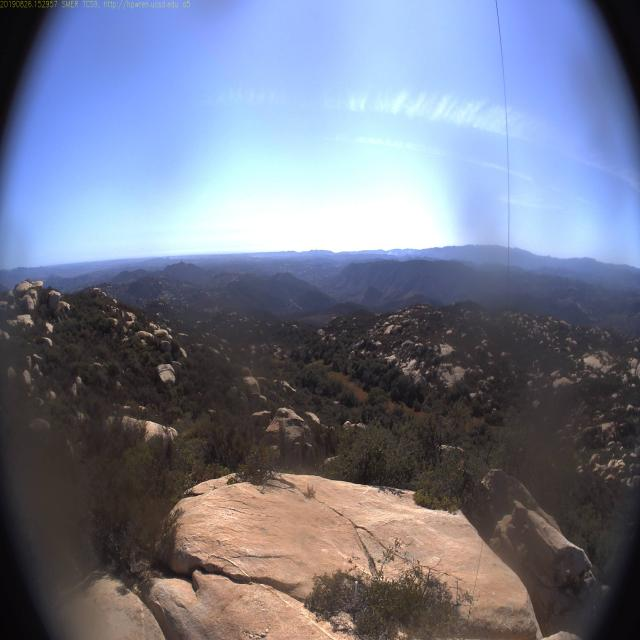smoke: (386, 248, 395, 257)
